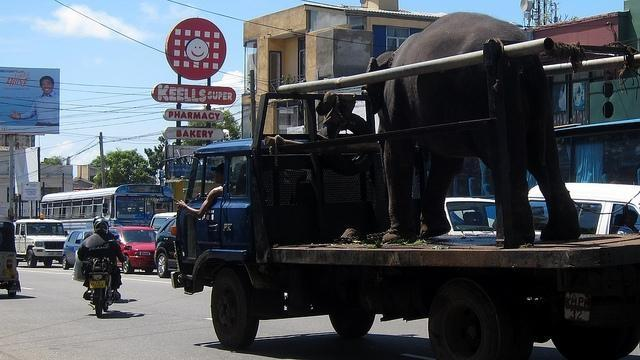bus: (40, 183, 174, 229)
car: (527, 180, 640, 236), (14, 214, 70, 268), (109, 226, 158, 274), (443, 196, 497, 236), (153, 216, 179, 278), (62, 228, 94, 270), (150, 212, 178, 229)
truck: (165, 11, 640, 360), (15, 212, 69, 268)
